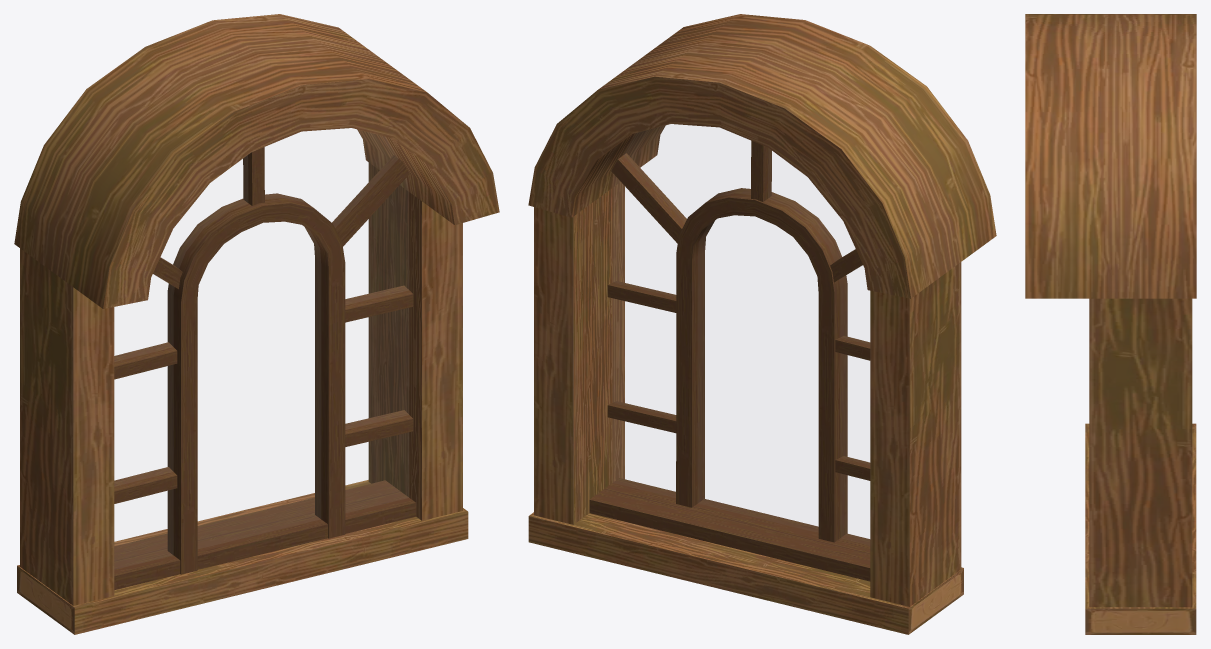
The model's file is Window_Wide_Round1.glb.
The picture shows the model from 3 angles, left to right: view 1: azimuth 30°, elevation 25°; view 2: azimuth 150°, elevation 25°; view 3: azimuth 270°, elevation 25°; orthographic projection. The views are drawn at different scales.
Visible parts, largest first — view 1: Window_Wide_Round1; view 2: Window_Wide_Round1; view 3: Window_Wide_Round1.
Part boxes in pixels (x1,y1,x2,y2): Window_Wide_Round1: (14, 14, 499, 634); Window_Wide_Round1: (528, 14, 996, 634); Window_Wide_Round1: (1025, 14, 1196, 634).
Bounding box in the file's own units: 1.36 × 1.73 × 0.5296.
Materials: 2 (1 with a texture image).
